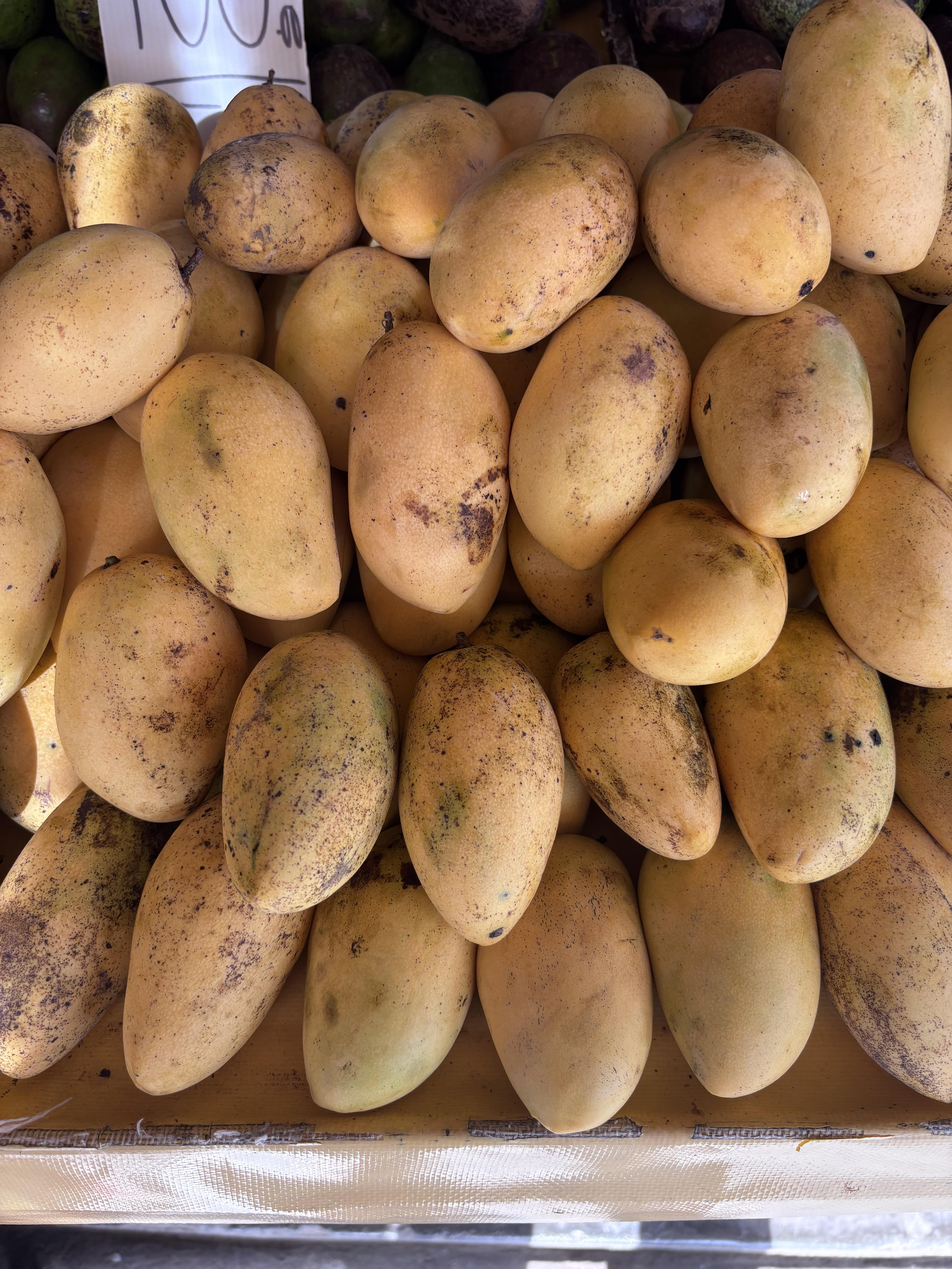mango: (141, 353, 341, 620), (55, 552, 246, 821), (399, 645, 564, 948), (222, 631, 399, 913), (510, 296, 691, 569), (349, 321, 510, 612), (430, 134, 637, 352), (692, 301, 872, 537), (639, 126, 830, 315), (602, 499, 787, 684), (184, 132, 361, 274)
occluded: (123, 794, 312, 1095), (477, 835, 653, 1134), (704, 609, 895, 883), (638, 815, 820, 1097), (0, 785, 173, 1078), (303, 827, 476, 1112), (778, 0, 952, 275), (813, 798, 952, 1102), (0, 224, 194, 434), (551, 632, 721, 860), (272, 246, 437, 471), (806, 458, 952, 688), (41, 420, 173, 647), (356, 95, 509, 258), (57, 83, 202, 229), (357, 530, 507, 656), (807, 262, 906, 448), (0, 432, 66, 706), (538, 65, 679, 185), (608, 252, 740, 378), (0, 643, 80, 831), (507, 501, 606, 636), (329, 602, 427, 729), (885, 679, 952, 854), (202, 70, 330, 160), (0, 124, 68, 277), (887, 157, 952, 305), (469, 604, 576, 693), (907, 304, 952, 497), (182, 256, 264, 357), (333, 89, 422, 174), (688, 68, 780, 140), (235, 597, 339, 647), (487, 92, 553, 149), (558, 757, 590, 833), (151, 219, 197, 267), (113, 393, 148, 442), (13, 431, 65, 458)
